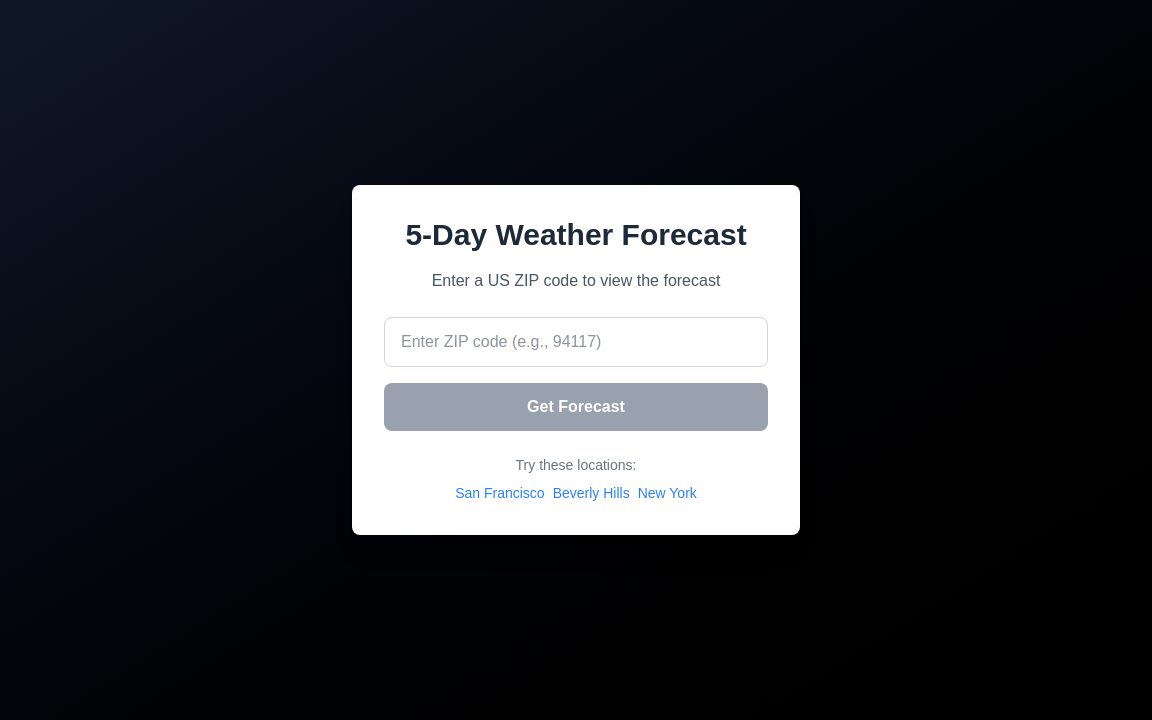
Test: Home page › shows error for invalid zip
In the field with placeholder "Enter ZIP code (e.g., 94117)": (576, 342) [384,317,768,367], type "123"
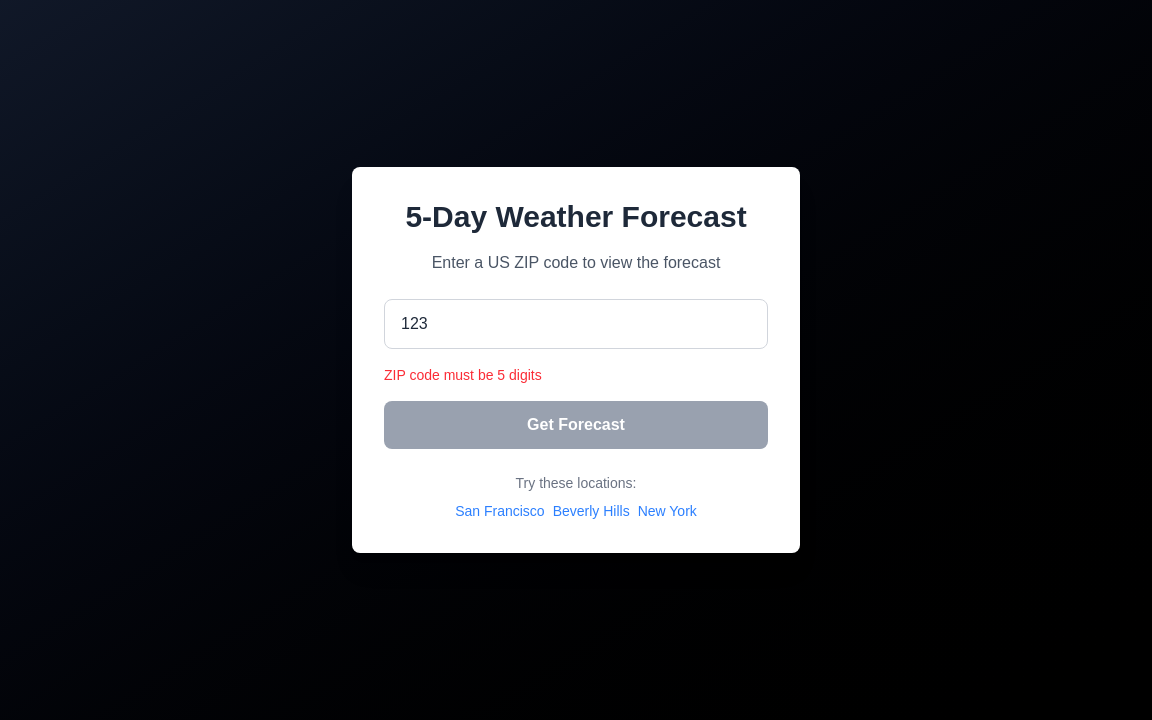
Now the text "ZIP code must be 5 digits" is shown, box [384,367,542,383]
